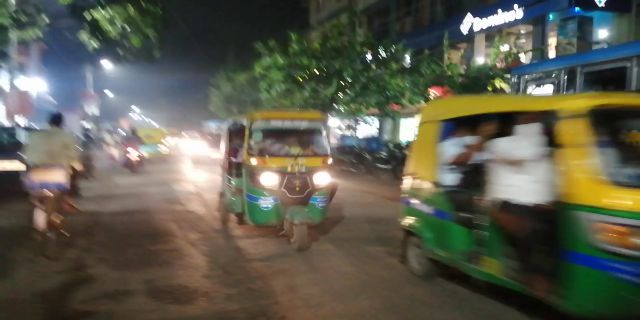Autorickshaw: (402, 96, 626, 300), (221, 107, 339, 248)
